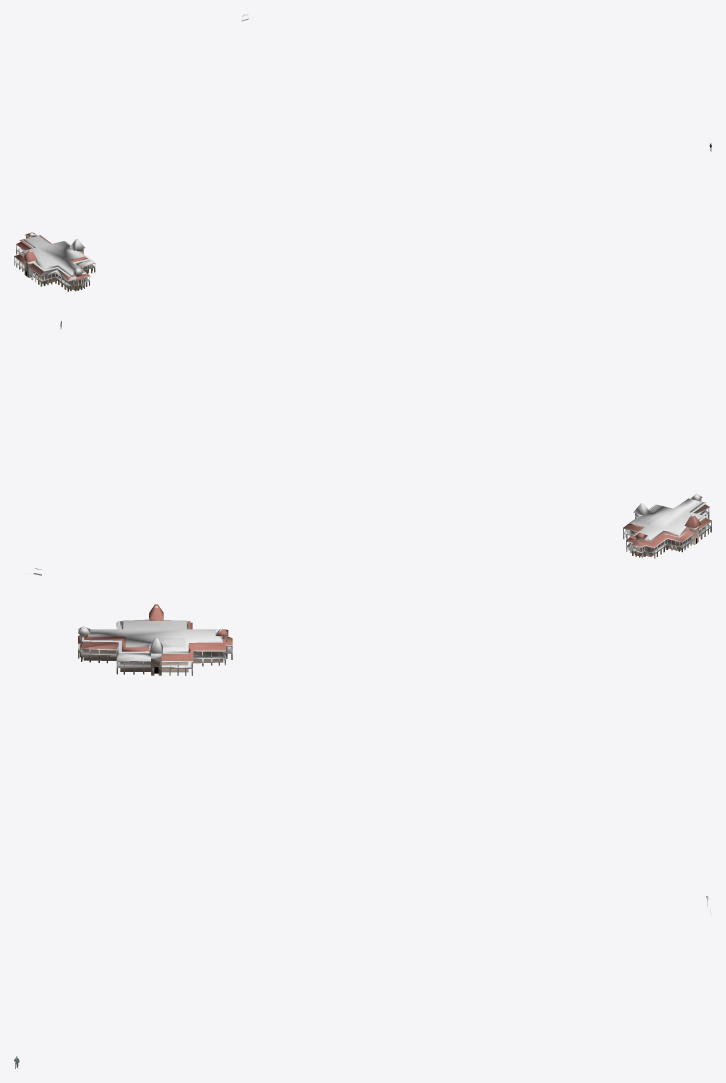
File: oldmain.dae
The picture shows the model from 3 angles, top to bottom: view 1: azimuth 30°, elevation 25°; view 2: azimuth 150°, elevation 25°; view 3: azimuth 270°, elevation 25°; orthographic projection. The views are drawn at different scales.
Parts seen in each view (by area): view 1: Mesh13_Component2_3_1_Component1_3_1_skpD96E1_Model; view 2: Mesh13_Component2_3_1_Component1_3_1_skpD96E1_Model; view 3: Mesh13_Component2_3_1_Component1_3_1_skpD96E1_Model.
Boxes of the visible parts, x1,y1,x2,y2 form: Mesh13_Component2_3_1_Component1_3_1_skpD96E1_Model: (14, 235, 95, 291); Mesh13_Component2_3_1_Component1_3_1_skpD96E1_Model: (623, 498, 711, 557); Mesh13_Component2_3_1_Component1_3_1_skpD96E1_Model: (78, 604, 232, 675).
Size of the model in its own units: 130 by 87.08 by 5.03.
